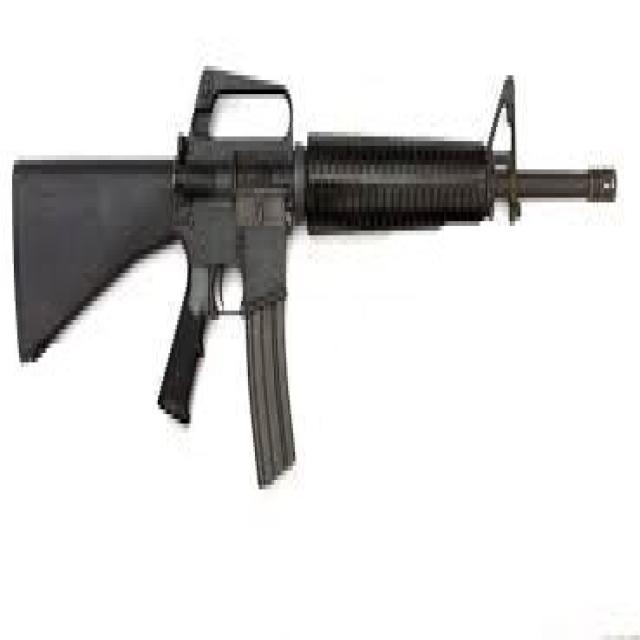rifle: (7, 42, 621, 515)
